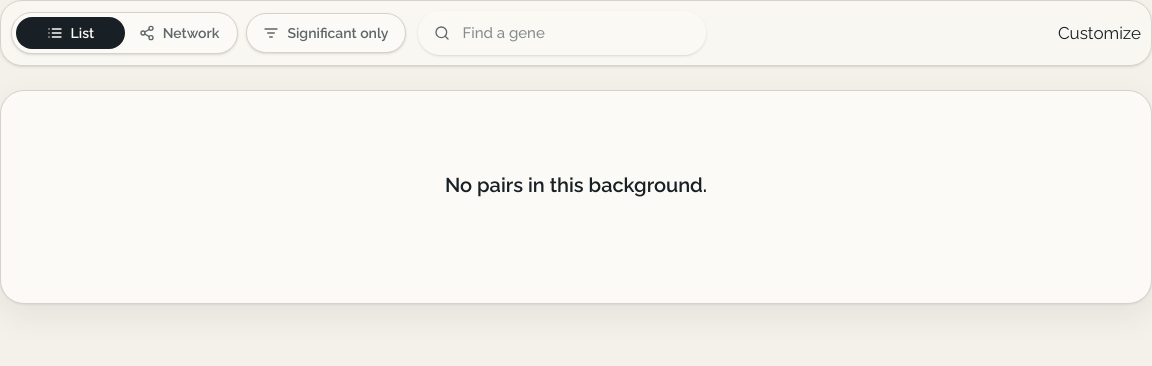
Scenario: ExploreView › uses a compact gene search with a clear recovery action
The image size is (1152, 366).
In the search field labelled "Find a gene": coordinates (562, 33) [418,11,706,55], type "TP53"
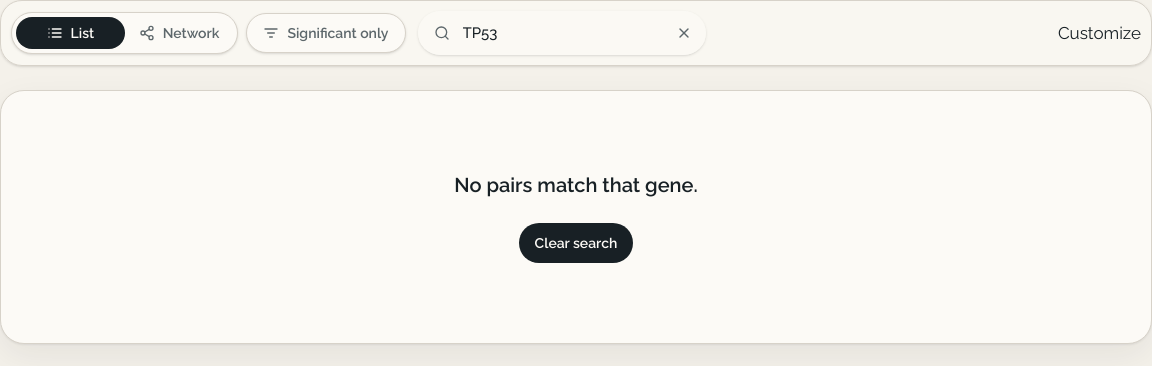
Expected: the text "No pairs match that gene." is shown, [454,173,698,197]
Click the button "Clear search": coordinates (576, 243) [519,223,633,263]
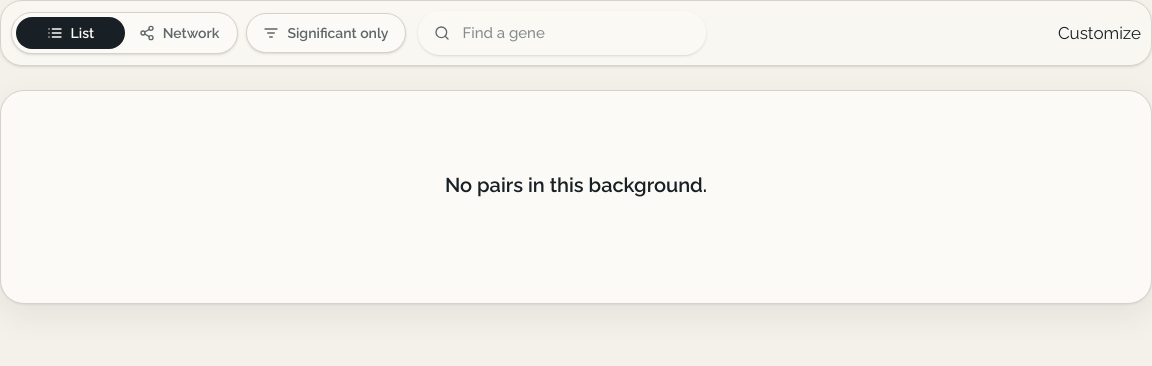
Expected: the search field labelled "Find a gene" is empty, [418,11,706,55]
